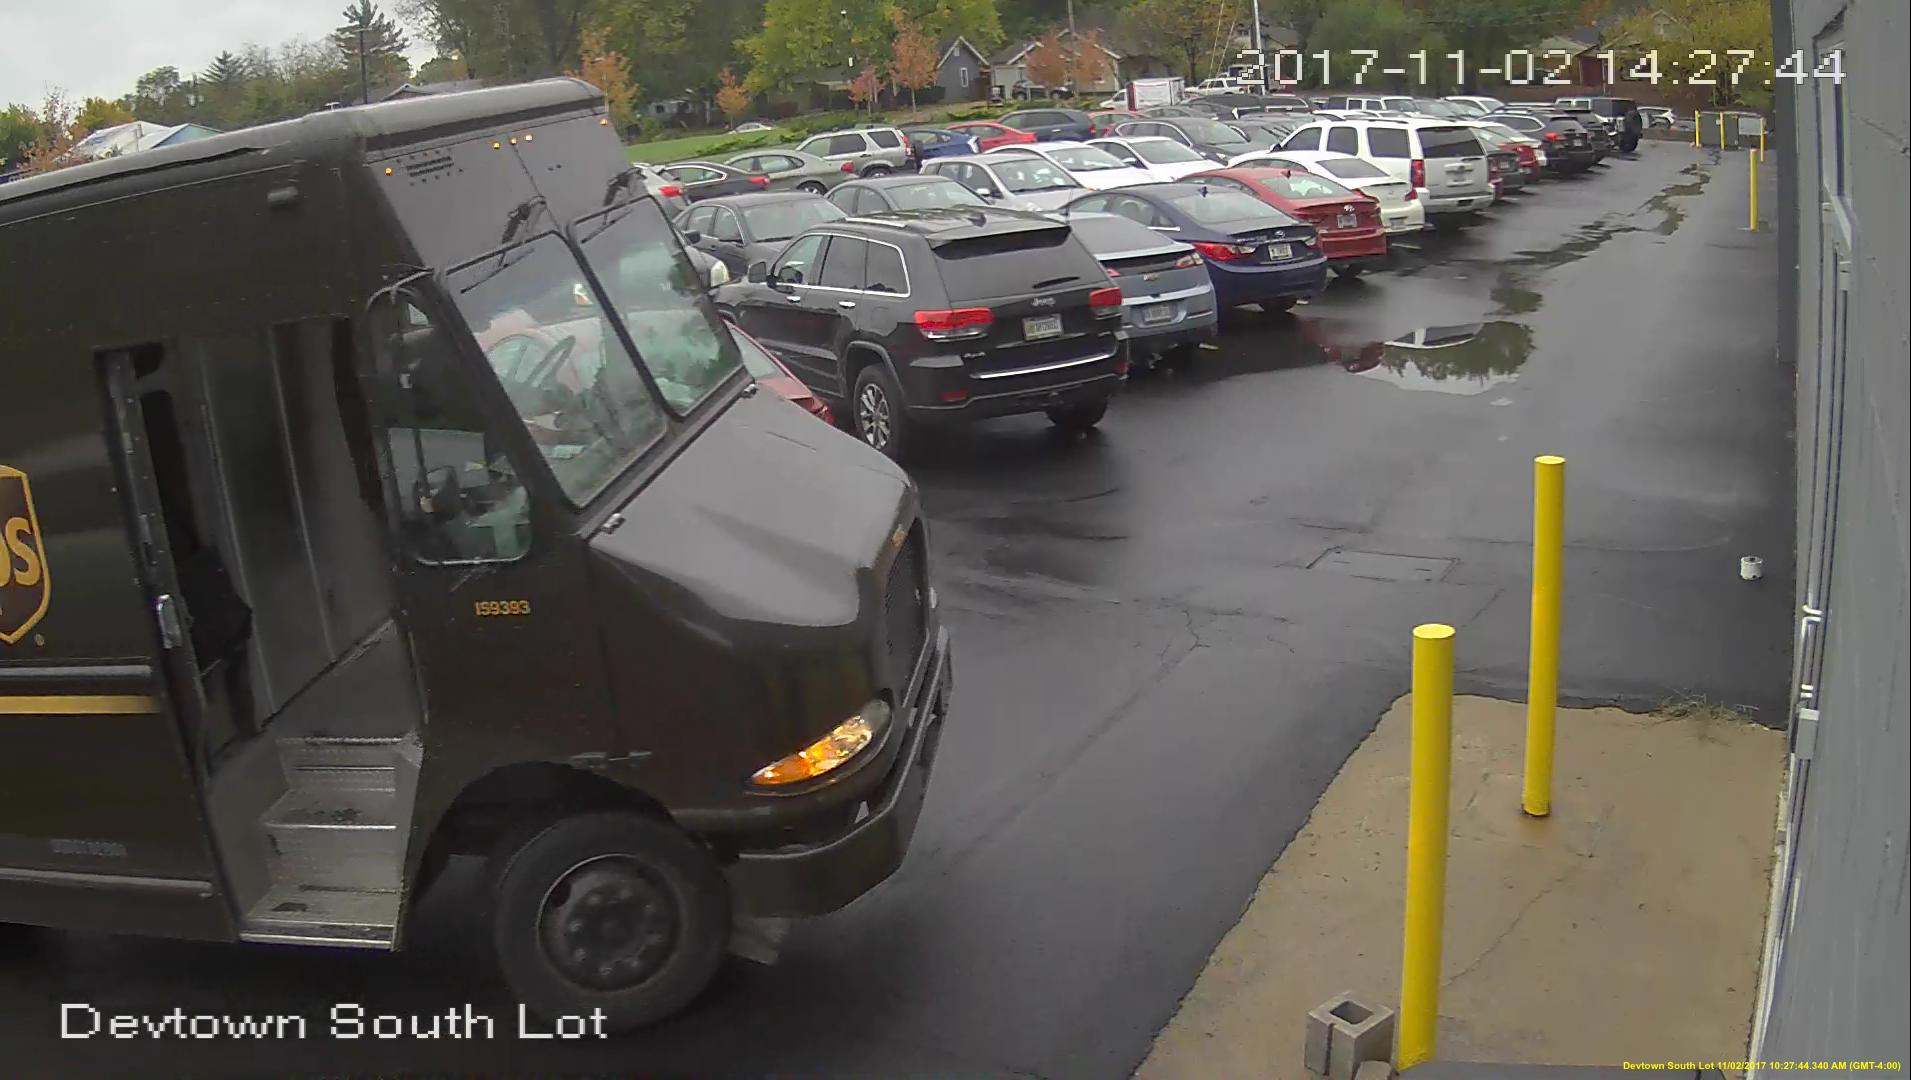ups_truck: (1, 77, 932, 1028)
